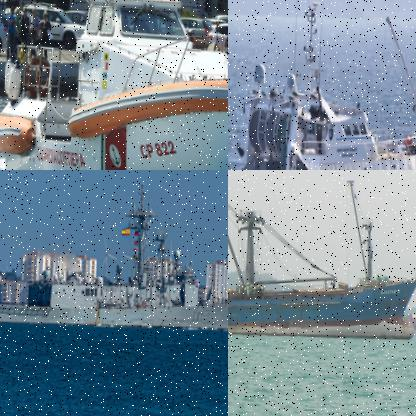Fishing Boat: (228, 0, 415, 169)
Merchant Ship: (228, 170, 415, 342)
Military Ship: (0, 177, 227, 332)
Patrol Boat: (0, 0, 227, 169)
